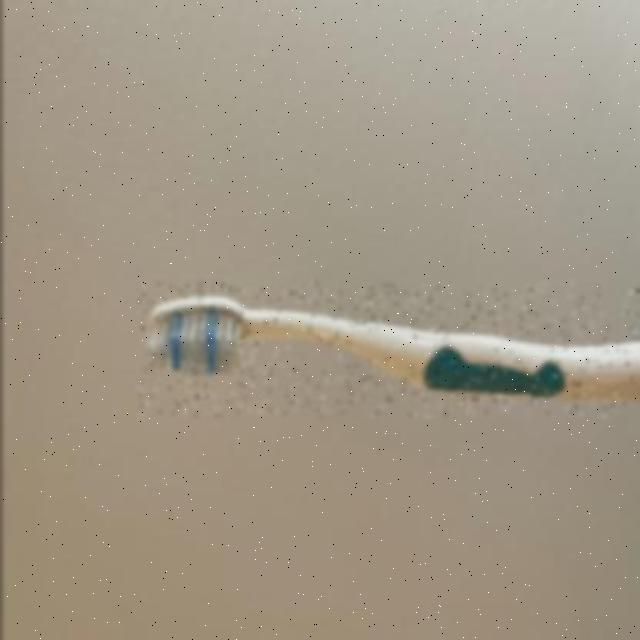toothbrush: (136, 284, 640, 416)
